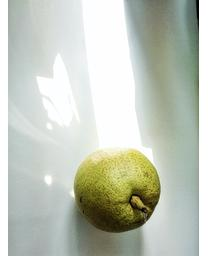avocado: (73, 146, 161, 233)
